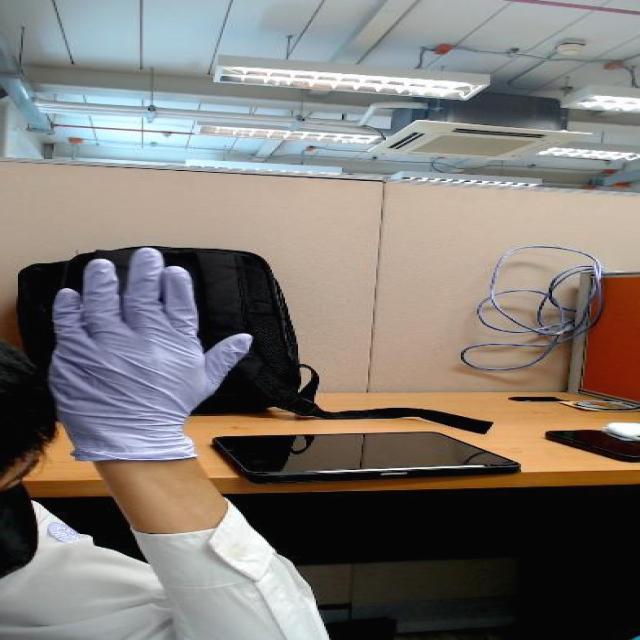glove: (34, 240, 275, 427)
